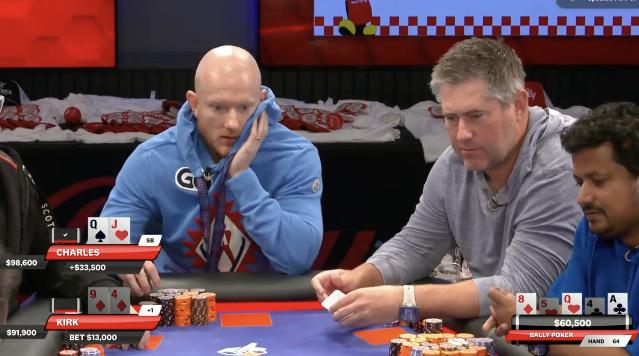4C: (586, 299, 606, 315)
4D: (110, 288, 128, 314)
5H: (541, 299, 559, 315)
8D: (518, 294, 536, 316)
9D: (90, 289, 108, 313)
AC: (610, 294, 628, 316)
JH: (111, 218, 129, 244)
QH: (564, 294, 582, 314)
QS: (89, 218, 109, 244)
